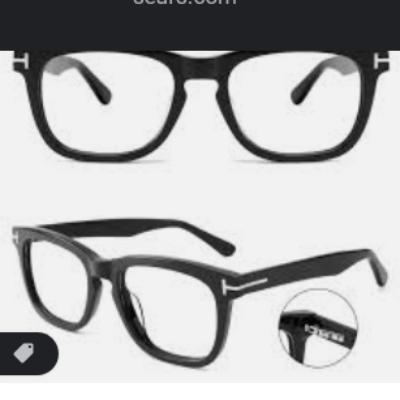glasses: (9, 216, 397, 368), (11, 46, 392, 165)
